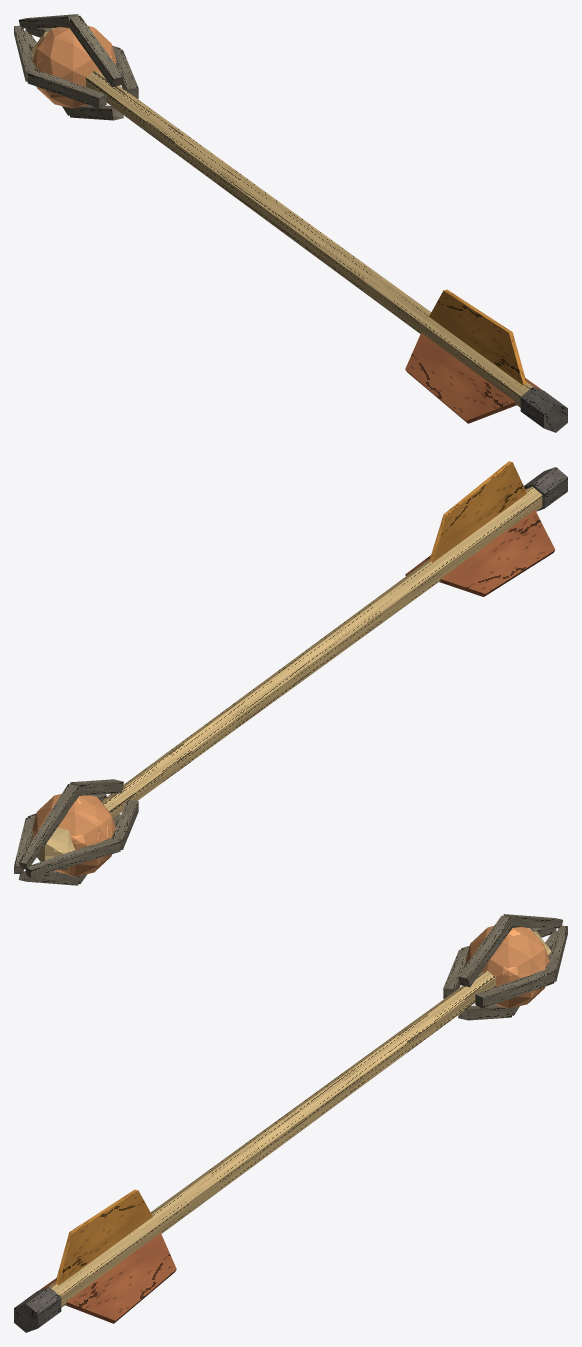
The model's file is proj_arrow_ember.gltf.
3 views of the same model, one above another, from view 1: azimuth 30°, elevation 25°; view 2: azimuth 150°, elevation 25°; view 3: azimuth 330°, elevation 25° (orthographic).
Visible parts, largest first — view 1: body, glow; view 2: body, glow; view 3: body, glow.
Part boxes in pixels (x1=…): body: x1=14, y1=14, x2=567, y2=432; glow: x1=31, y1=26, x2=116, y2=108; body: x1=14, y1=461, x2=567, y2=885; glow: x1=32, y1=794, x2=115, y2=876; body: x1=14, y1=914, x2=567, y2=1332; glow: x1=465, y1=926, x2=550, y2=1008.
Bounding box in the file's own units: 0.0755 × 0.0778 × 0.7332.
Materials: 2 (2 with a texture image).
